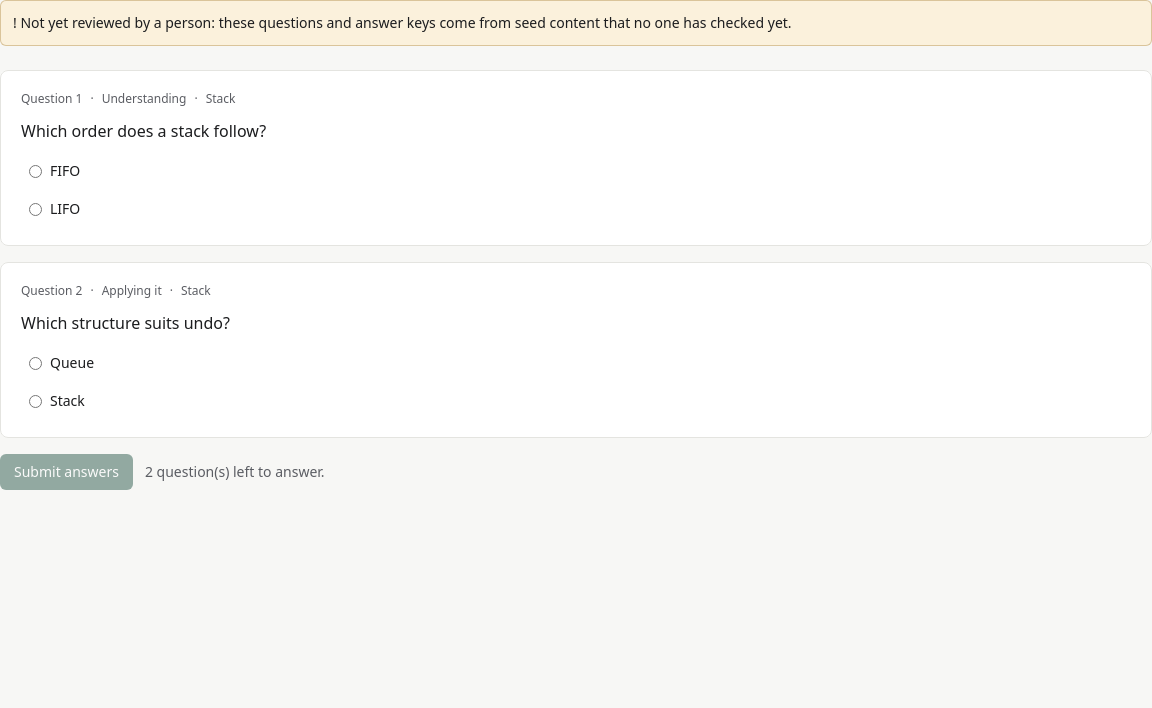
QuizRunner › needs every answer, then shows marking and the classification change
Check: the element that starts with "Not yet reviewed by a person" is shown, box [20, 13, 211, 32]
Check: the button "Submit answers" is disabled, box [0, 454, 133, 490]
Click the radio button labelled "FIFO": (36, 172) [29, 165, 42, 178]
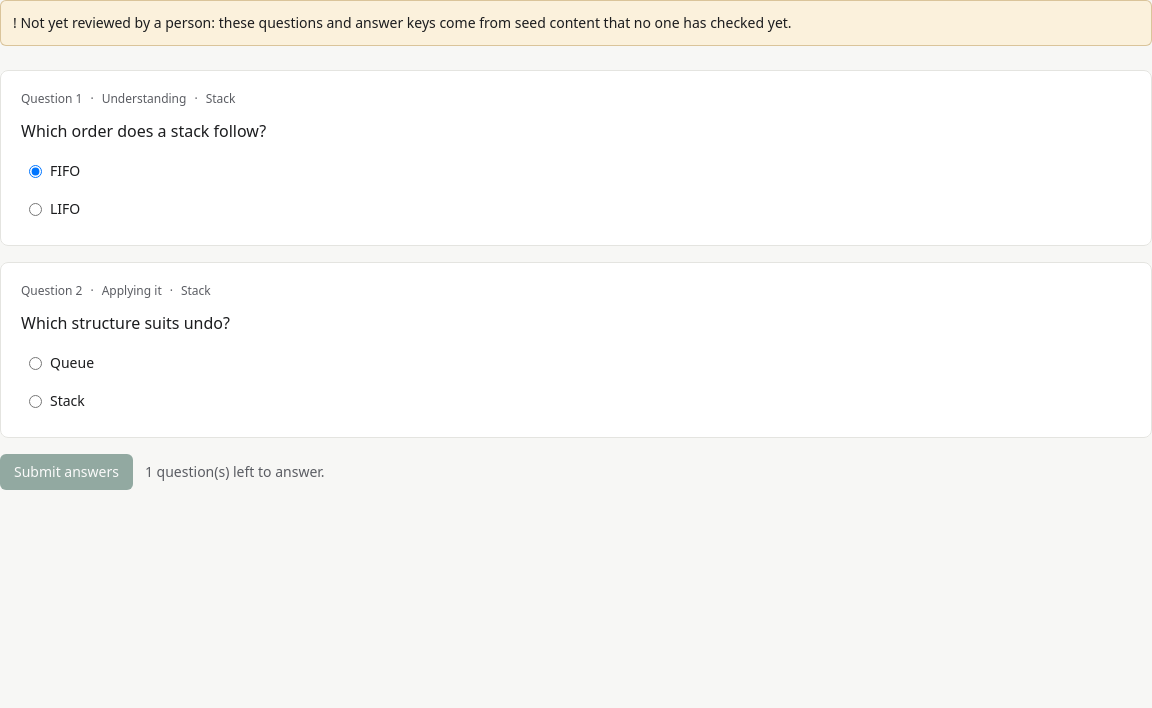
Click the radio button labelled "Stack": (36, 402) [29, 395, 42, 408]
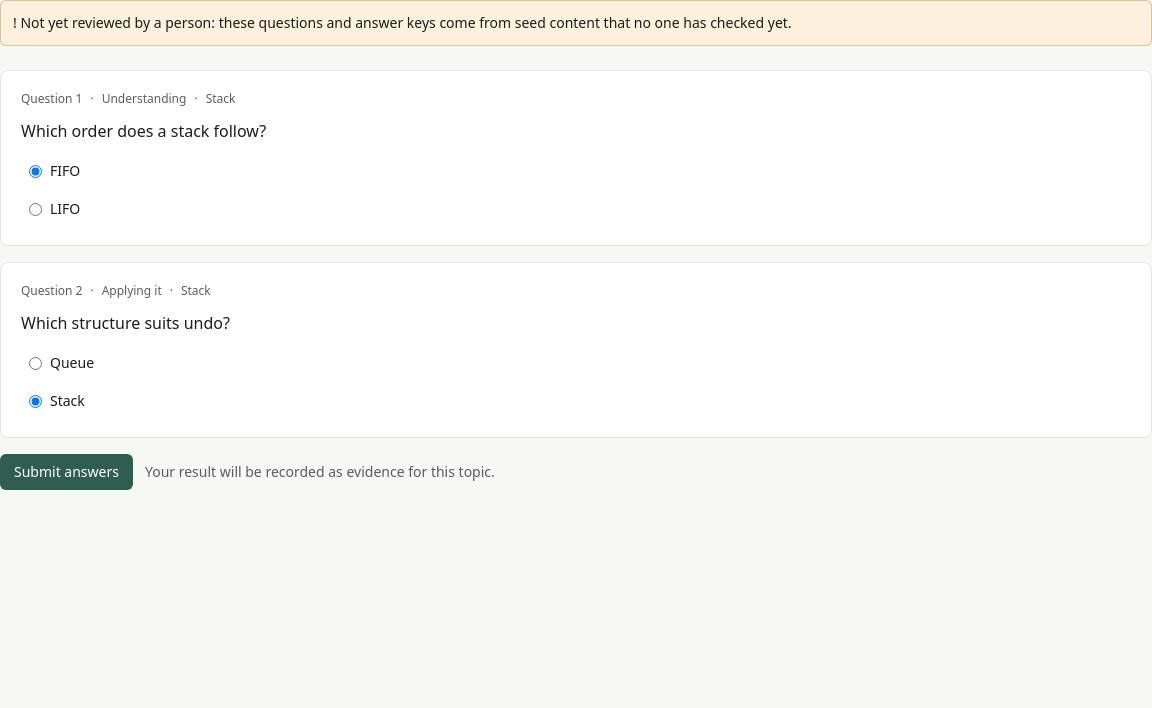
Click the button "Submit answers": (66, 472) [0, 454, 133, 490]
(page scrolled)
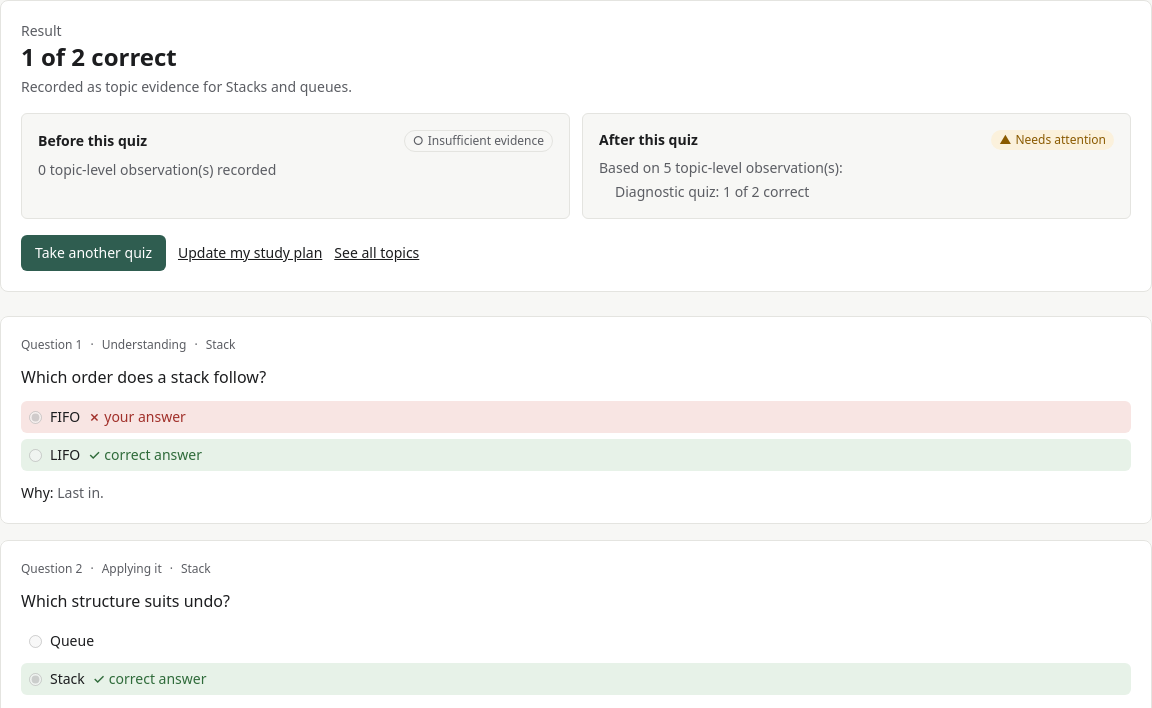
Check: the text "1 of 2 correct" is shown, box [21, 40, 177, 73]
Check: the heading "Before this quiz" is shown, box [38, 131, 147, 151]
Check: the text "Needs attention" is shown, box [1015, 131, 1106, 148]
